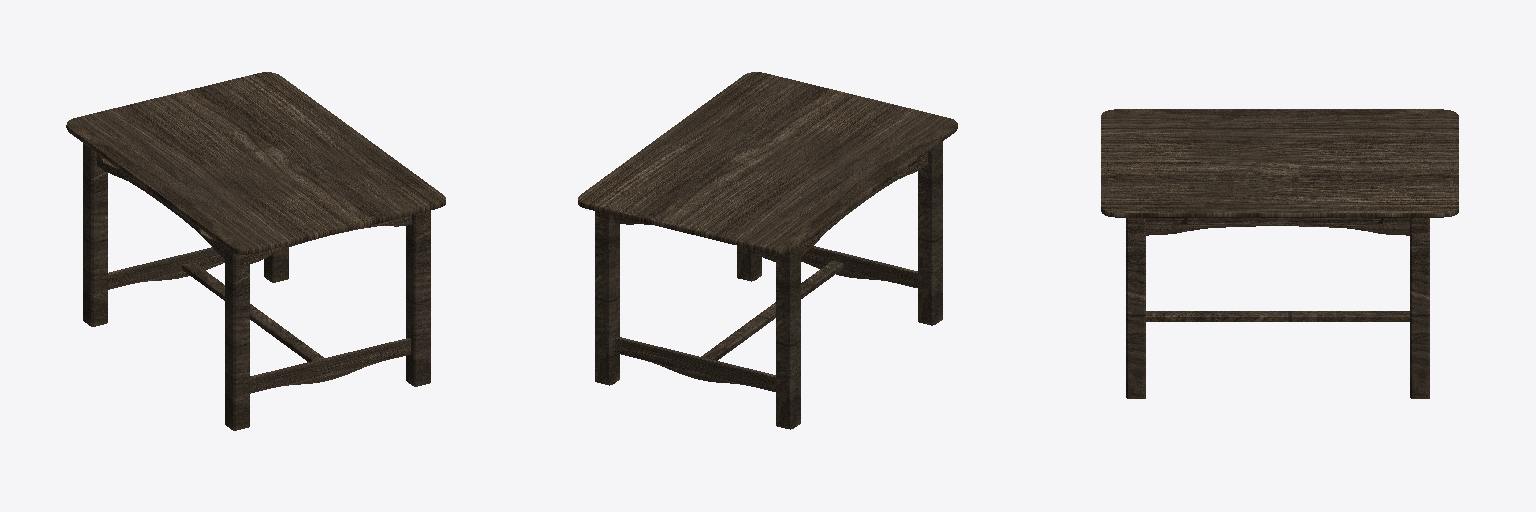
3 renders of one model, left to right at view 1: azimuth 30°, elevation 25°; view 2: azimuth 150°, elevation 25°; view 3: azimuth 270°, elevation 25°, orthographic.
Parts seen in each view (by area): view 1: Table; view 2: Table; view 3: Table.
Boxes of the visible parts, box(x1,y1,x2,y2) form: Table: box(66, 72, 445, 430); Table: box(578, 72, 957, 429); Table: box(1101, 109, 1458, 398).
Bounding box in the file's own units: 0.9051 × 0.7719 × 1.32.
1 materials, 1 textured.